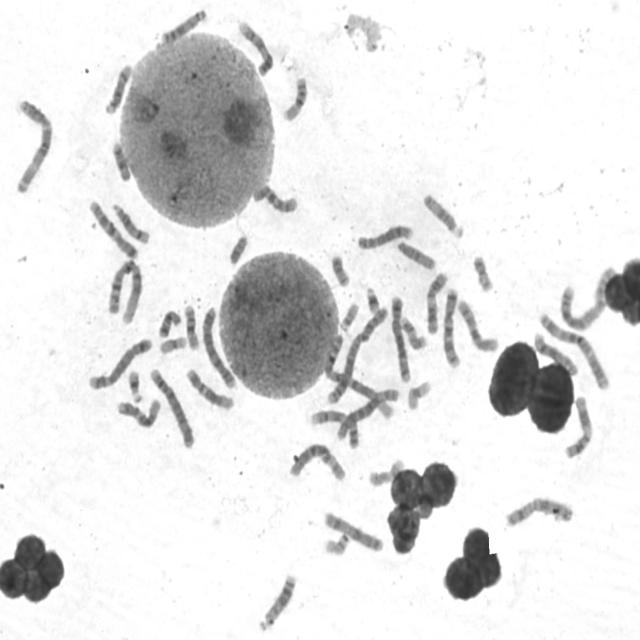A1: (322, 330, 396, 420), (104, 256, 144, 326)
A2: (323, 302, 390, 408), (558, 261, 618, 332)
A3: (535, 310, 612, 391), (11, 94, 55, 195)
B4: (147, 364, 197, 450), (200, 303, 238, 391)
B5: (86, 334, 153, 392), (387, 290, 413, 384)
C10: (454, 295, 500, 354), (250, 179, 300, 216)
C11: (561, 392, 595, 461), (424, 268, 449, 336)
C12: (183, 365, 235, 412), (114, 395, 162, 430)
C6: (332, 385, 402, 442), (286, 439, 348, 483)
C7: (86, 197, 140, 260), (440, 284, 463, 370)
C8: (531, 328, 580, 378), (354, 221, 415, 251)
C9: (235, 17, 275, 77), (307, 406, 361, 450)
D13: (255, 570, 297, 633), (158, 4, 208, 46)
D14: (108, 199, 152, 246), (102, 60, 134, 116)
D15: (420, 189, 466, 240), (393, 236, 438, 272)
E16: (280, 73, 309, 123), (181, 300, 201, 351)
E17: (398, 313, 428, 352), (367, 458, 407, 486)
E18: (109, 137, 132, 183), (156, 307, 183, 339)
F19: (404, 377, 432, 412), (156, 333, 188, 356)
F20: (470, 251, 495, 294), (328, 250, 352, 288)
G21: (126, 366, 144, 404), (363, 283, 382, 316)
G22: (336, 299, 361, 335), (321, 529, 351, 557)
X: (502, 492, 577, 536), (321, 508, 385, 554)
Y: (227, 231, 250, 267)
